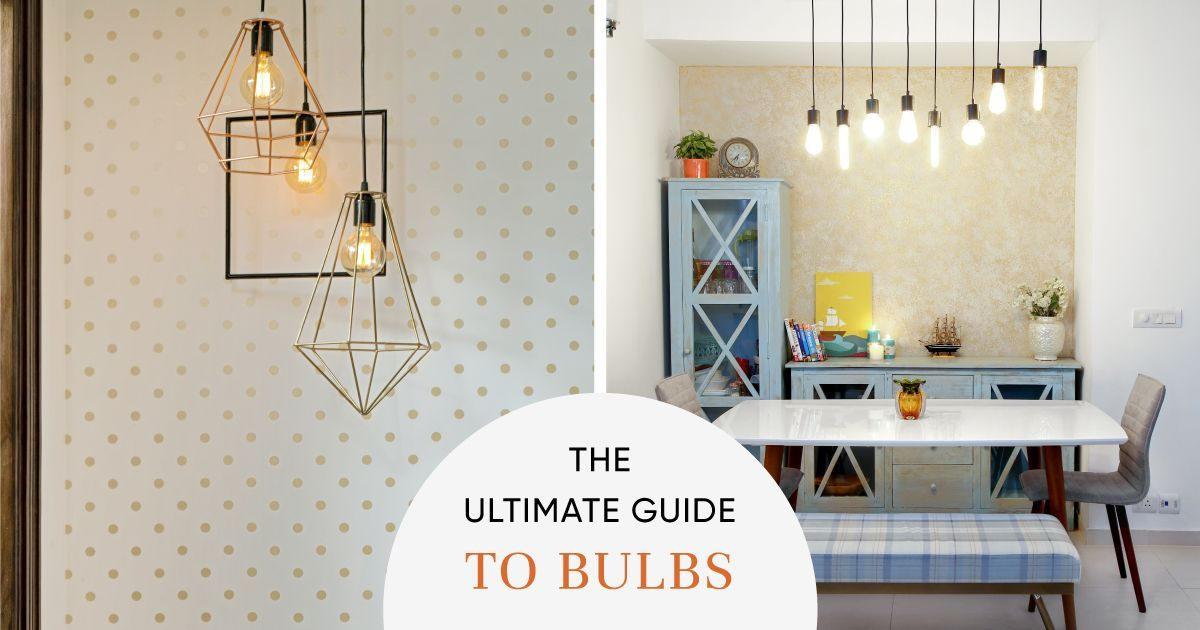bulb: (280, 135, 337, 215), (237, 50, 295, 124), (342, 209, 394, 288), (1023, 55, 1054, 134), (829, 117, 863, 186), (917, 122, 951, 183), (858, 108, 894, 165), (890, 105, 925, 155), (984, 74, 1018, 124), (802, 114, 831, 161), (958, 115, 993, 149)
